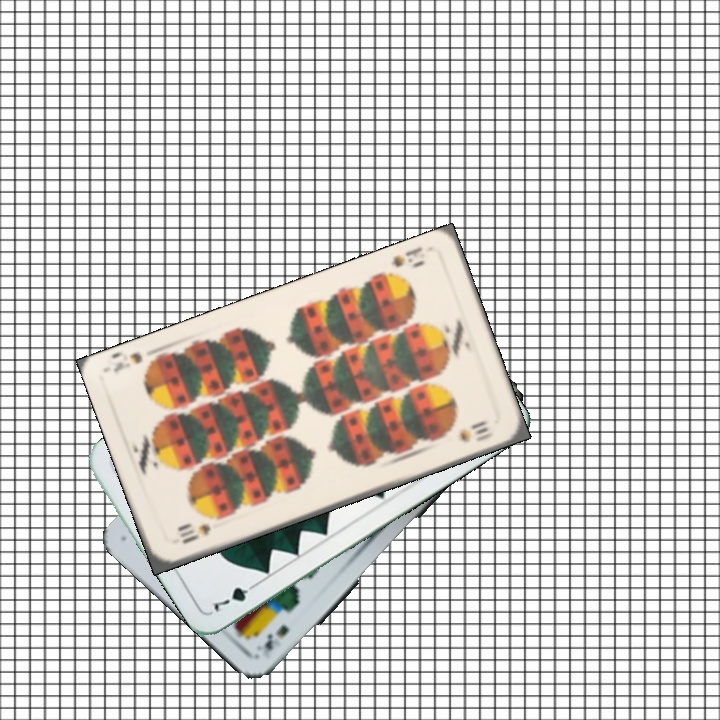EK: (260, 620, 292, 656)
G7: (207, 578, 262, 615)
S10: (386, 242, 425, 270), (175, 520, 213, 547)
